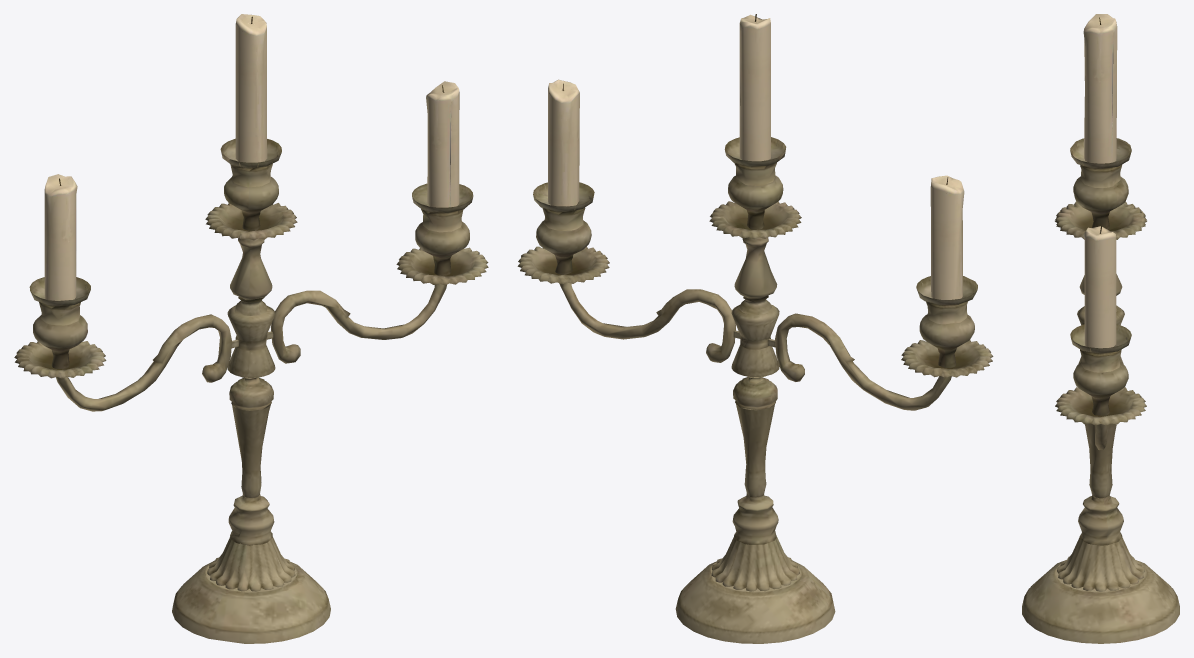
File: candelabra.glb
The picture shows the model from 3 angles, left to right: view 1: azimuth 30°, elevation 25°; view 2: azimuth 150°, elevation 25°; view 3: azimuth 270°, elevation 25°; orthographic projection.
Visible parts, largest first — view 1: A_Candelabra_M_Candelabra_0, A_Candle2_M_Candle_0; view 2: A_Candelabra_M_Candelabra_0, A_Candle2_M_Candle_0; view 3: A_Candelabra_M_Candelabra_0, A_Candle2_M_Candle_0.
Part boxes in pixels (x1,y1,x2,y2): A_Candelabra_M_Candelabra_0: (14, 138, 488, 643); A_Candle2_M_Candle_0: (44, 14, 459, 300); A_Candelabra_M_Candelabra_0: (517, 137, 993, 643); A_Candle2_M_Candle_0: (548, 14, 964, 299); A_Candelabra_M_Candelabra_0: (1022, 138, 1179, 643); A_Candle2_M_Candle_0: (1083, 14, 1117, 348).
Bounding box in the file's own units: 0.3105 × 0.3815 × 0.0921.
2 materials, 2 textured.
